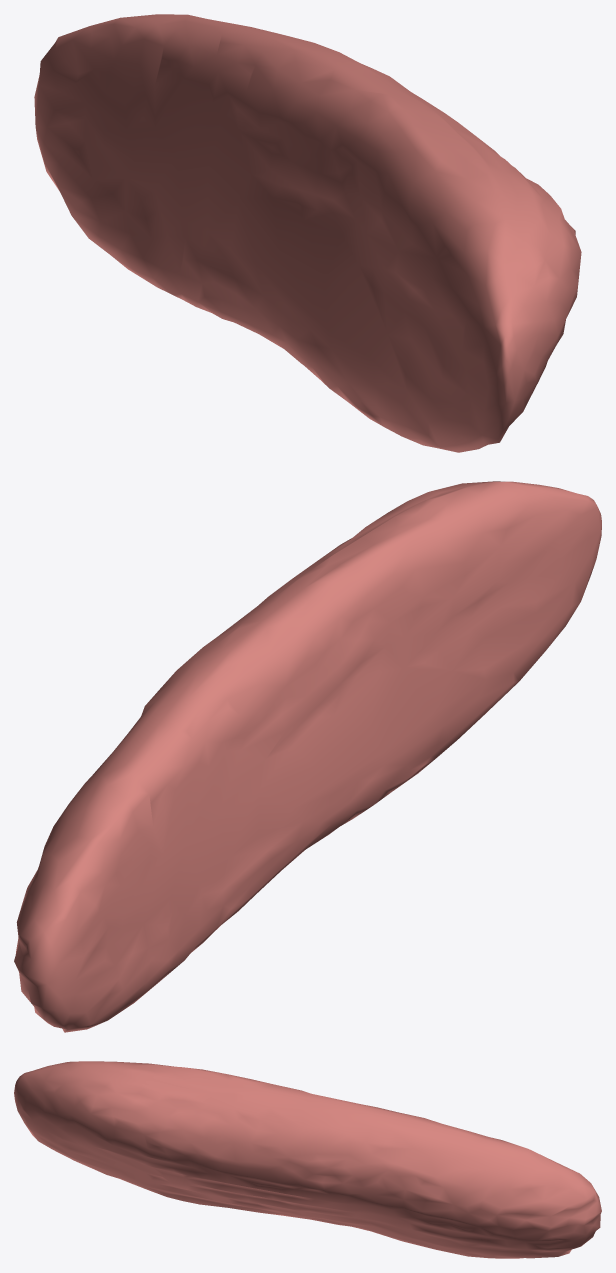
File: fma46714_mm1143.glb
The picture shows the model from 3 angles, top to bottom: view 1: azimuth 30°, elevation 25°; view 2: azimuth 150°, elevation 25°; view 3: azimuth 270°, elevation 25°; orthographic projection. The views are drawn at different scales.
Parts seen in each view (by area): view 1: FMA46714_MM1143; view 2: FMA46714_MM1143; view 3: FMA46714_MM1143.
Boxes of the visible parts, x1=… form: FMA46714_MM1143: x1=34, y1=14, x2=581, y2=452; FMA46714_MM1143: x1=14, y1=481, x2=601, y2=1032; FMA46714_MM1143: x1=14, y1=1061, x2=601, y2=1258.
Bounding box in the file's own units: 0.00811 × 0.0123 × 0.0355.
